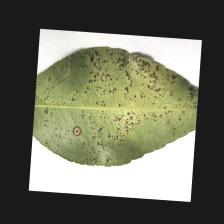canker: (86, 68, 172, 142)
